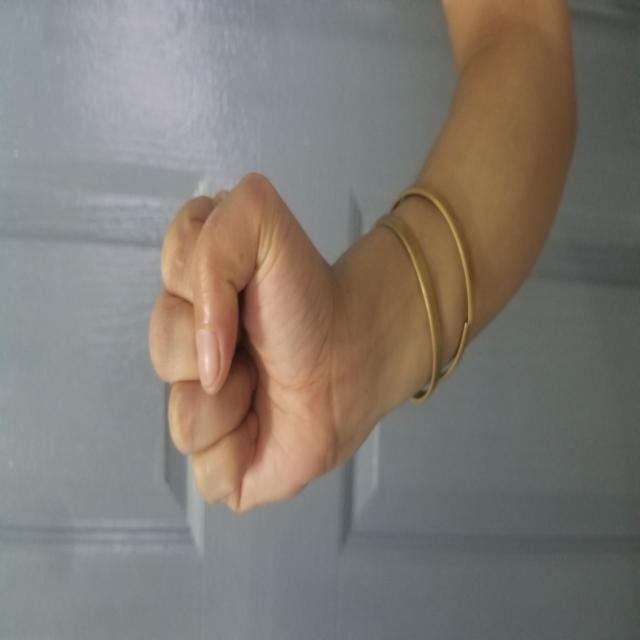S: (120, 148, 472, 337)
